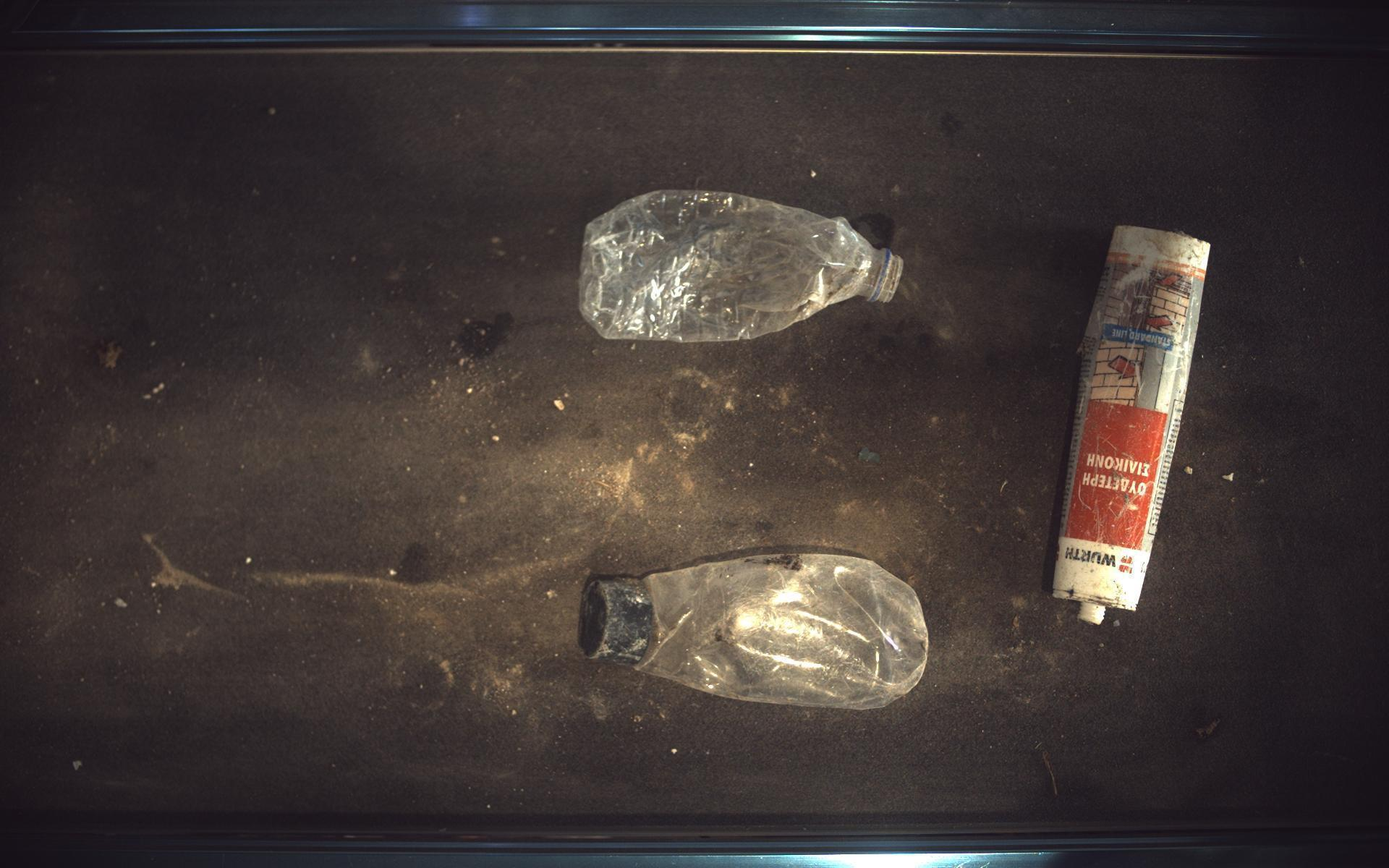general_w: (579, 551, 930, 710), (580, 190, 904, 342)
plastic: (1055, 225, 1213, 624)
